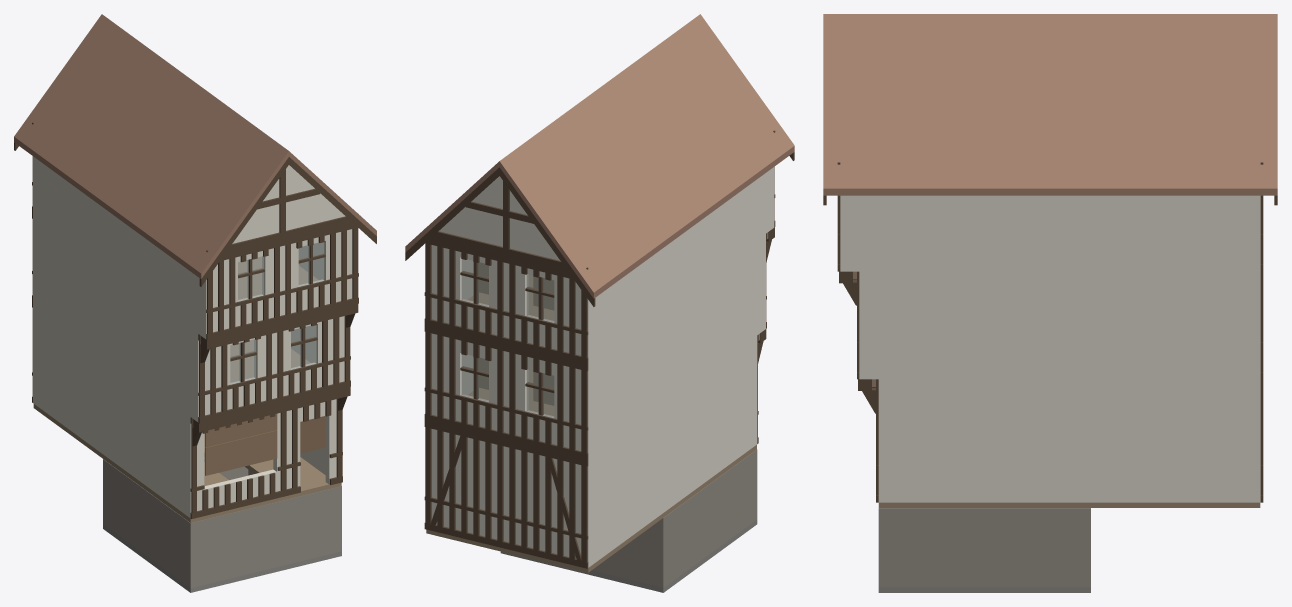
Rendered from shop-house-a.glb.
3 renders of one model, left to right at view 1: azimuth 30°, elevation 25°; view 2: azimuth 150°, elevation 25°; view 3: azimuth 270°, elevation 25°, orthographic. The views are drawn at different scales.
Visible parts, largest first — view 1: render, roof, timber, stone, floor, glass, shop-house-a-shutter-02 leaf, flags, shop-house-a-shutter-01 leaf, shop-house-a-door-01 leaf; view 2: render, roof, timber, stone, glass, floor, plank, flags; view 3: render, roof, stone, timber, floor, flags.
Boxes of the visible parts, left/top/right/bottom form: render: left=33, top=156, right=352, bottom=517; roof: left=14, top=14, right=376, bottom=278; timber: left=14, top=122, right=376, bottom=518; stone: left=103, top=457, right=341, bottom=588; floor: left=33, top=256, right=341, bottom=522; glass: left=230, top=242, right=323, bottom=384; shop-house-a-shutter-02 leaf: left=205, top=430, right=277, bottom=475; flags: left=103, top=524, right=341, bottom=592; shop-house-a-shutter-01 leaf: left=205, top=413, right=277, bottom=447; shop-house-a-door-01 leaf: left=300, top=416, right=325, bottom=453; render: left=431, top=167, right=774, bottom=567; roof: left=405, top=14, right=794, bottom=298; timber: left=405, top=130, right=794, bottom=568; stone: left=592, top=449, right=757, bottom=587; glass: left=461, top=259, right=554, bottom=417; floor: left=426, top=232, right=768, bottom=572; plank: left=479, top=262, right=553, bottom=405; flags: left=500, top=519, right=757, bottom=592; render: left=840, top=195, right=1260, bottom=502; roof: left=823, top=14, right=1277, bottom=195; stone: left=878, top=503, right=1090, bottom=587; timber: left=823, top=162, right=1277, bottom=502; floor: left=853, top=271, right=1260, bottom=507; flags: left=878, top=587, right=1090, bottom=592.
Bounding box in the file's own units: 5.8 × 13.88 × 10.7.
